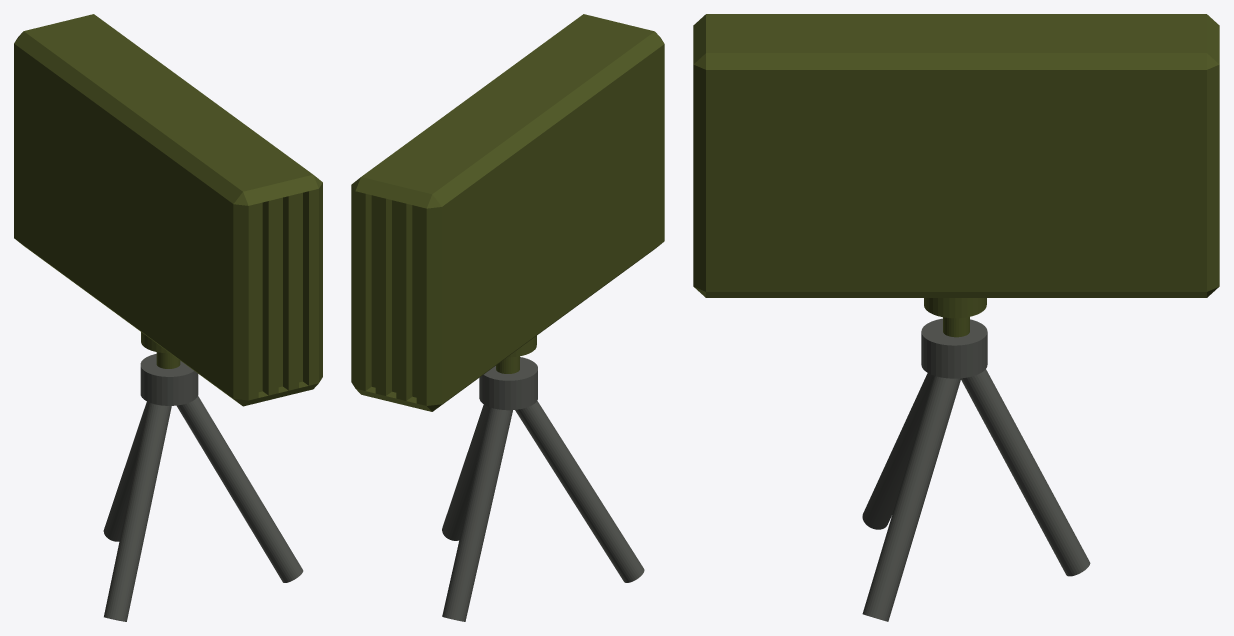
Rendered from radar.glb.
3 renders of one model, left to right at view 1: azimuth 30°, elevation 25°; view 2: azimuth 150°, elevation 25°; view 3: azimuth 270°, elevation 25°, orthographic. The views are drawn at different scales.
Parts seen in each view (by area): view 1: Cube, Cylinder.003; view 2: Cube, Cylinder.003; view 3: Cube, Cylinder.003.
Part boxes in pixels (x1,y1,x2,y2): Cube: (14, 14, 322, 406); Cylinder.003: (103, 354, 303, 621); Cube: (351, 14, 664, 411); Cylinder.003: (442, 357, 644, 621); Cube: (693, 14, 1219, 337); Cylinder.003: (862, 318, 1090, 621).
Bounding box in the file's own units: 1.92 × 4.42 × 3.89.
